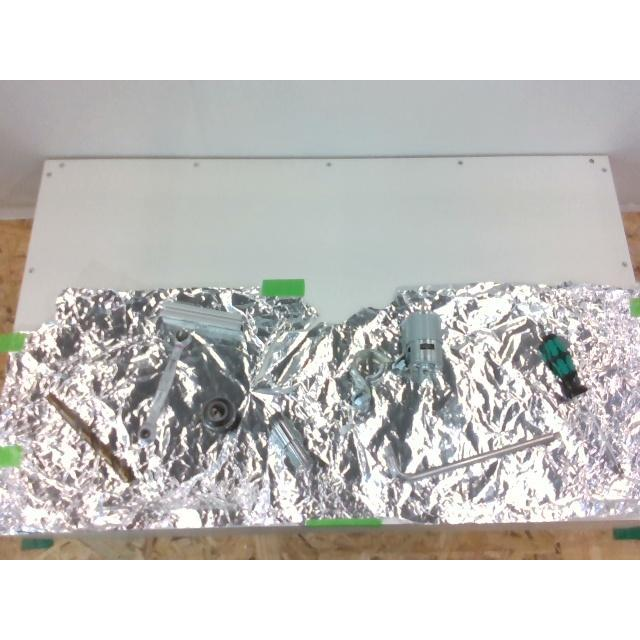AllenKey: (394, 432, 560, 481)
Axis2: (269, 412, 315, 476)
Bearing2: (202, 394, 238, 434)
Drill: (46, 393, 134, 483)
F20_20_G: (161, 300, 243, 342)
Housing: (341, 348, 404, 418)
Motor2: (400, 302, 442, 382)
Screwdriver: (538, 334, 622, 474)
Wrench: (140, 333, 192, 443)
